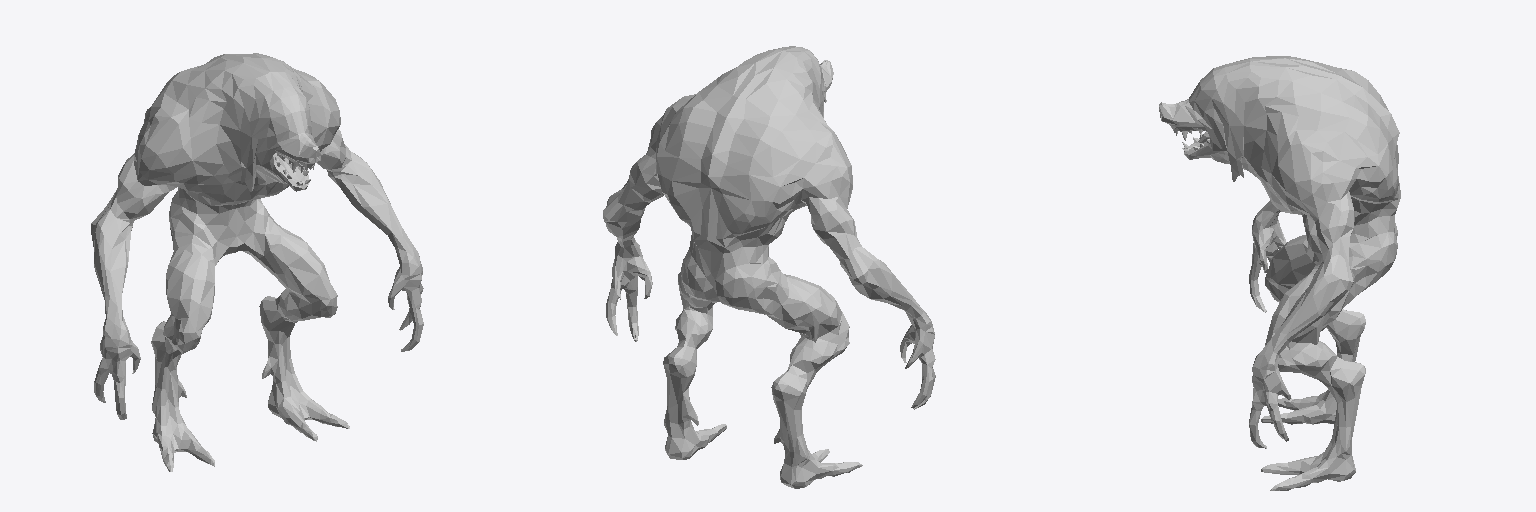
Rendered from monster.obj.
3 renders of one model, left to right at view 1: azimuth 30°, elevation 25°; view 2: azimuth 150°, elevation 25°; view 3: azimuth 270°, elevation 25°, orthographic.
Visible parts, largest first — view 1: Body_lod1; view 2: Body_lod1; view 3: Body_lod1.
Part boxes in pixels (x1,y1,x2,y2): Body_lod1: (91,53,423,471); Body_lod1: (603,46,935,488); Body_lod1: (1159,56,1400,490).
Size of the model in its own units: 4.86 by 5.56 by 3.14.